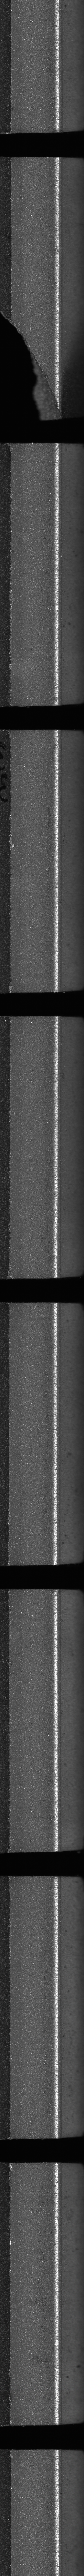Chip: (0, 306, 66, 424)
